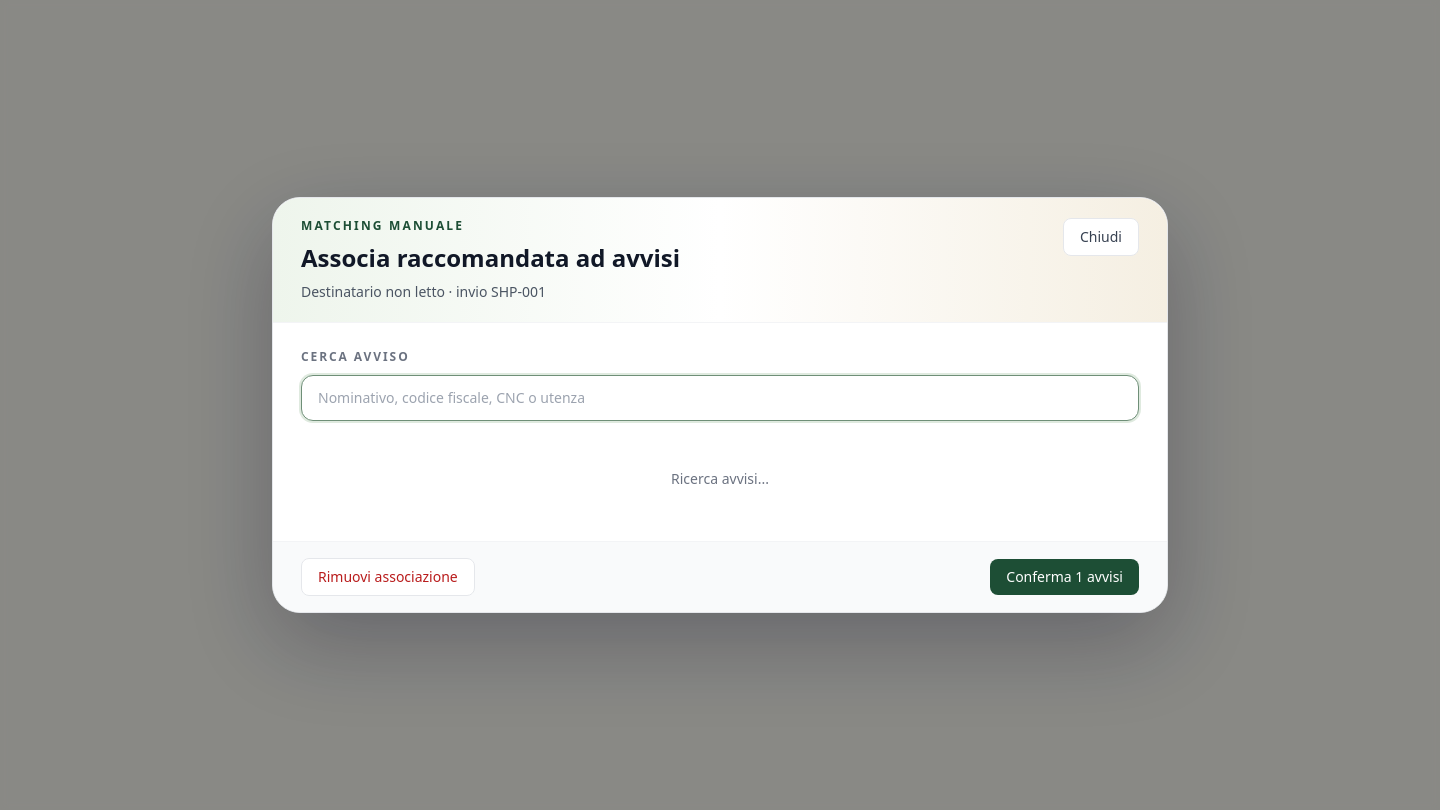
it: RegisteredMailsConsole › ignores completed searches after cancellation
The image size is (1440, 810).
Type "Nuova ricerca" into the search field with placeholder "Nominativo, codice fiscale, CNC o utenza" at [720, 398], box [301,375,1139,421]
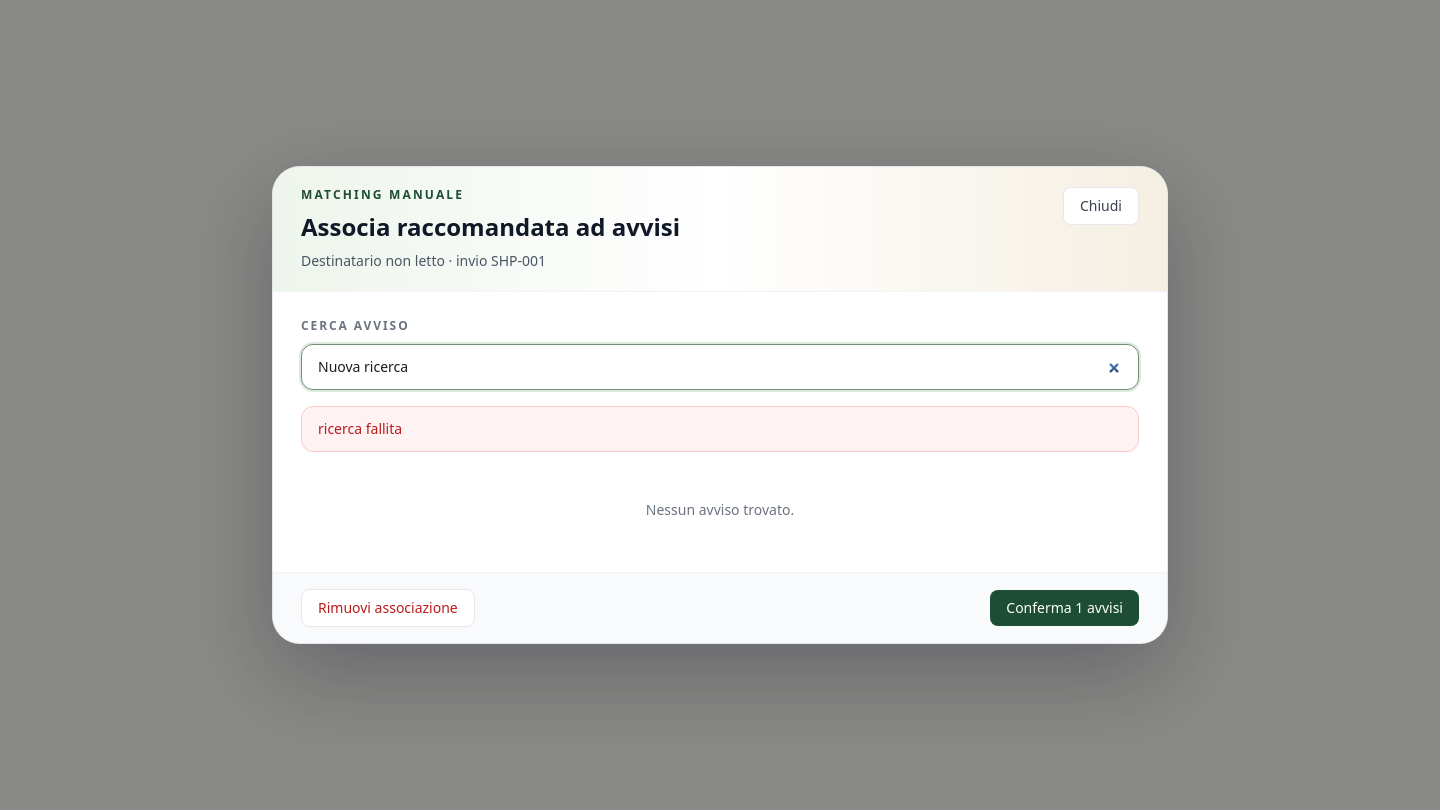
Check: the text "Destinatario non letto · invio SHP-001" is shown, box [301,251,546,270]
Check: the text "ricerca fallita" is shown, box [301,406,1139,452]
